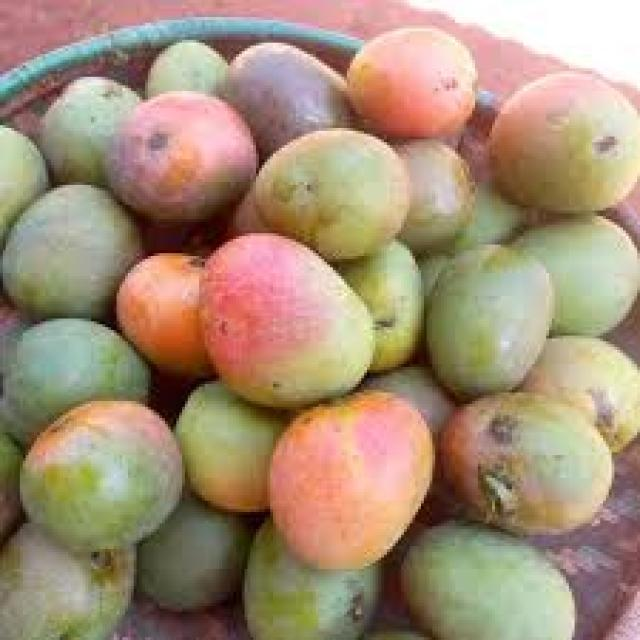Mango: (197, 241, 364, 404), (16, 410, 192, 545), (291, 387, 427, 561), (461, 388, 611, 534), (499, 78, 632, 212), (266, 127, 408, 249), (436, 238, 538, 405), (106, 104, 246, 213), (18, 185, 131, 315), (9, 320, 142, 423)
